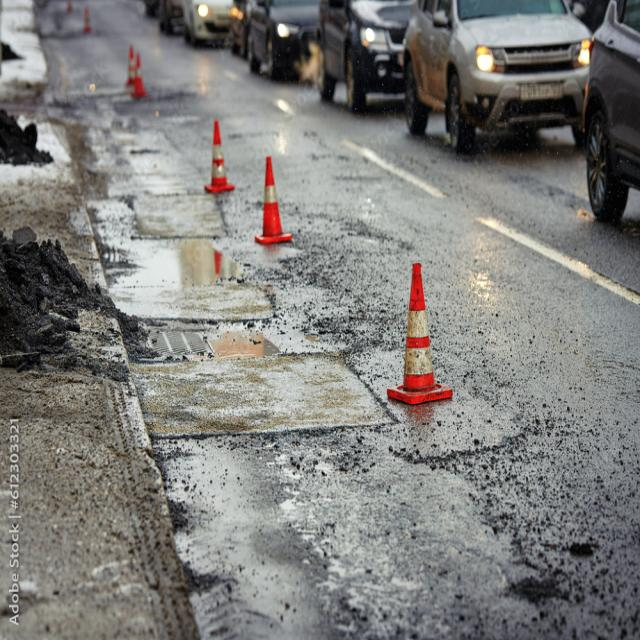Pothole: (0, 14, 395, 640)
